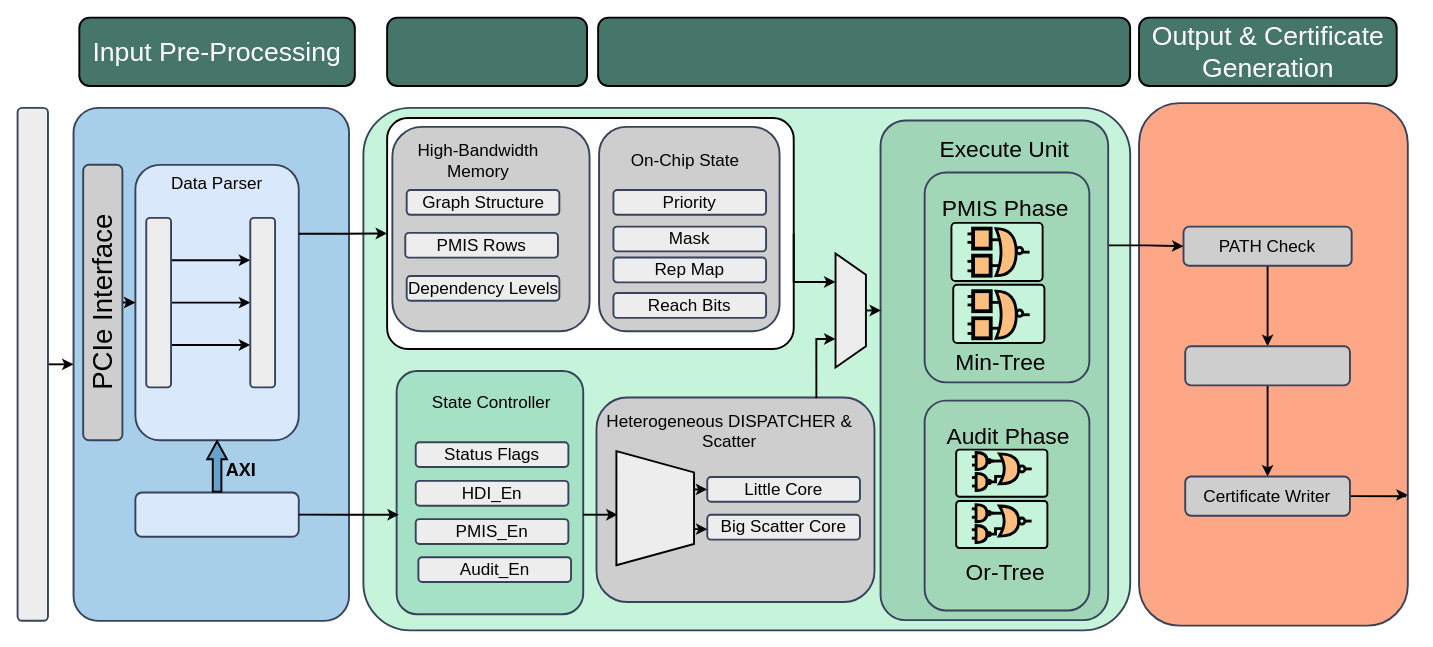
The diagram is 1433 pixels wide and 647 high, and some of its shapes have lost their labels. Each missing label, with the centre of its shape:
"CertMIS Fixed-Point Graph-Processing Unit" belongs at point 864,51.
"Decision" belongs at point 1267,365.
"DMA Engine" belongs at point 216,514.
"HOST CPU" belongs at point 32,363.
"Memory & State" belongs at point 486,51.
"MUX" belongs at point 850,310.
"Packed Data" belongs at point 158,302.
"ROUTER" belongs at point 655,508.
